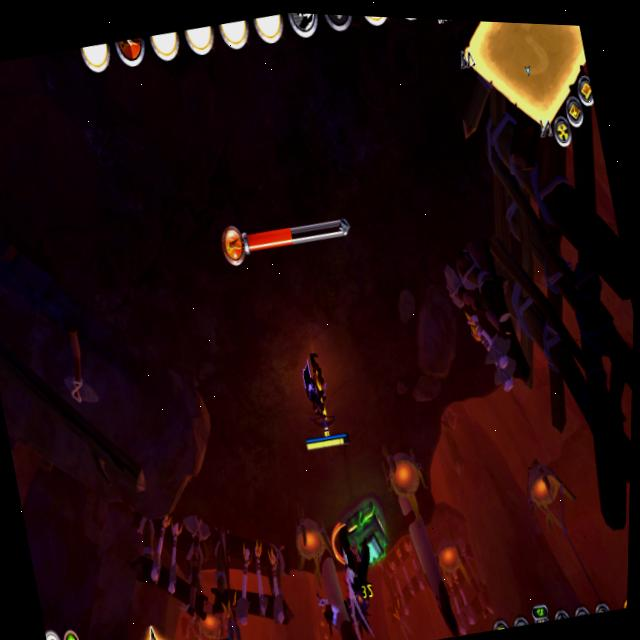ore: (314, 508, 403, 640)
red: (278, 331, 358, 459)
